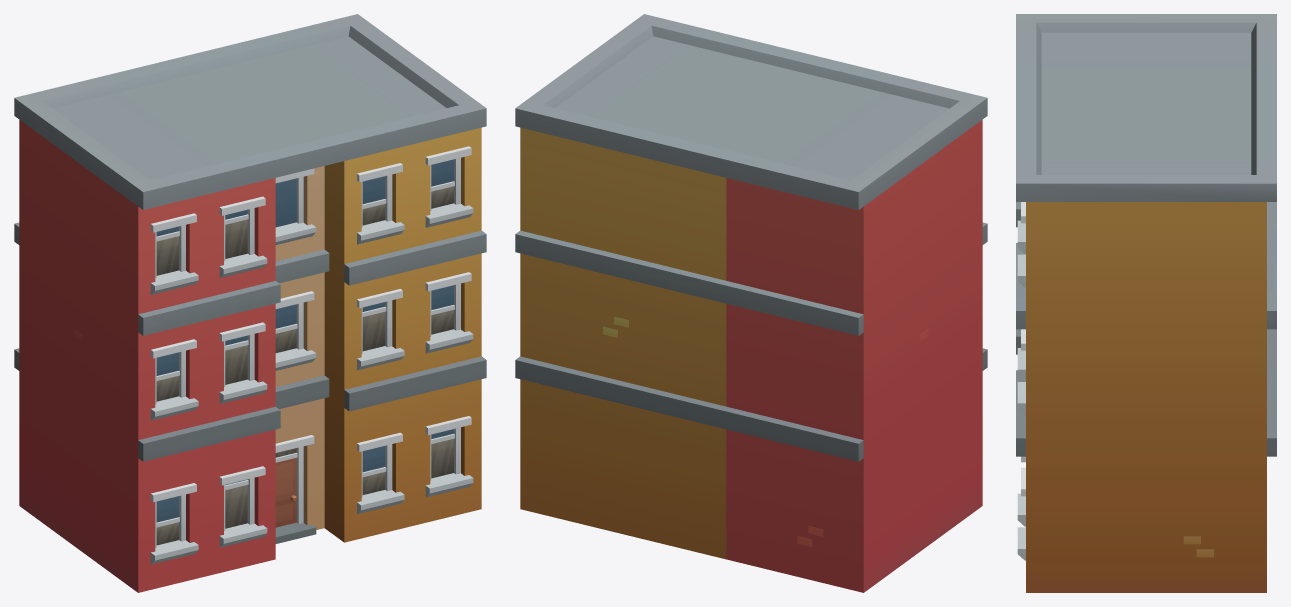
File: kay-predio-f.gltf
3 renders of one model, left to right at view 1: azimuth 30°, elevation 25°; view 2: azimuth 150°, elevation 25°; view 3: azimuth 270°, elevation 25°, orthographic.
Visible parts, largest first — view 1: building_F_withoutBase; view 2: building_F_withoutBase; view 3: building_F_withoutBase.
Boxes of the visible parts, x1=… form: building_F_withoutBase: x1=14, y1=14, x2=486, y2=592; building_F_withoutBase: x1=515, y1=14, x2=987, y2=592; building_F_withoutBase: x1=1016, y1=14, x2=1276, y2=592.
Bounding box in the file's own units: 10.03 × 11.25 × 6.5.
1 material, 1 textured.
